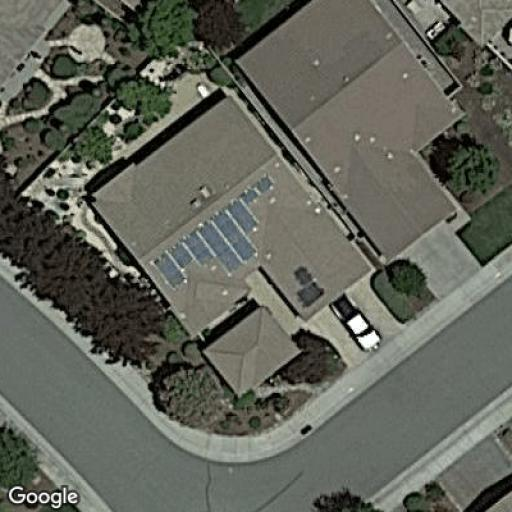solar-panel: (152, 174, 280, 288), (292, 264, 326, 310)
